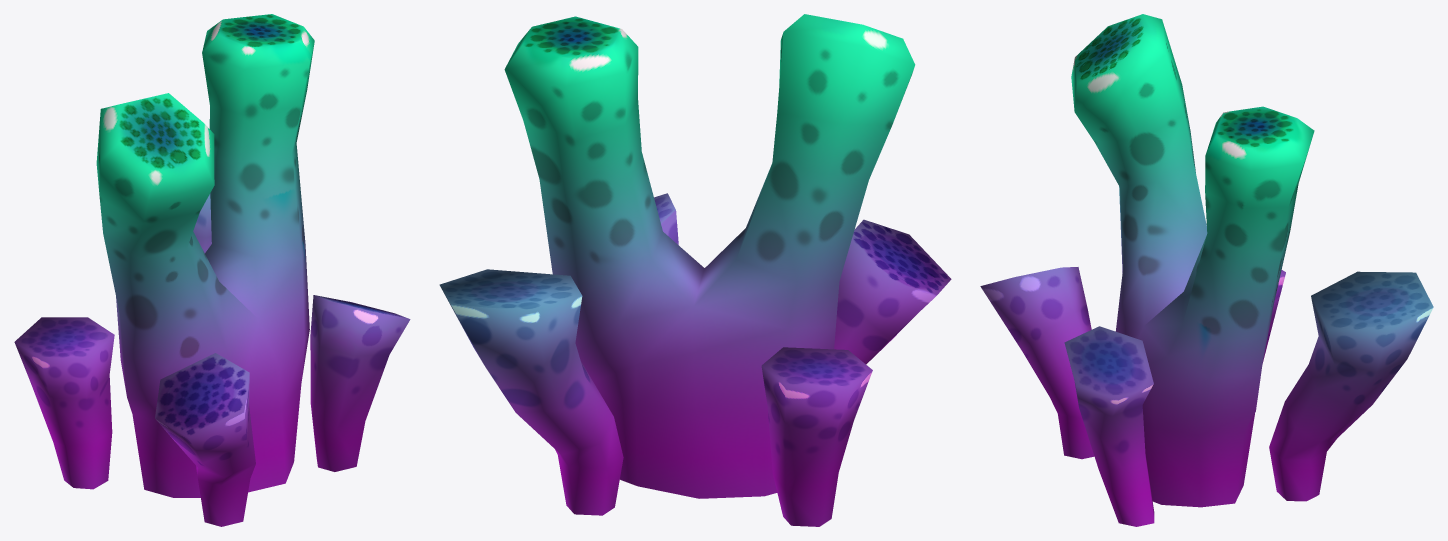
Rendered from corals_0 (2).fbx.
The picture shows the model from 3 angles, left to right: view 1: azimuth 30°, elevation 25°; view 2: azimuth 150°, elevation 25°; view 3: azimuth 270°, elevation 25°; orthographic projection. The views are drawn at different scales.
Visible parts, largest first — view 1: Cube.005; view 2: Cube.005; view 3: Cube.005.
Boxes of the visible parts, left/top/right/bottom form: Cube.005: left=14, top=14, right=410, bottom=526; Cube.005: left=439, top=14, right=951, bottom=526; Cube.005: left=980, top=14, right=1433, bottom=526.
Size of the model in its own units: 122 by 154 by 157.
